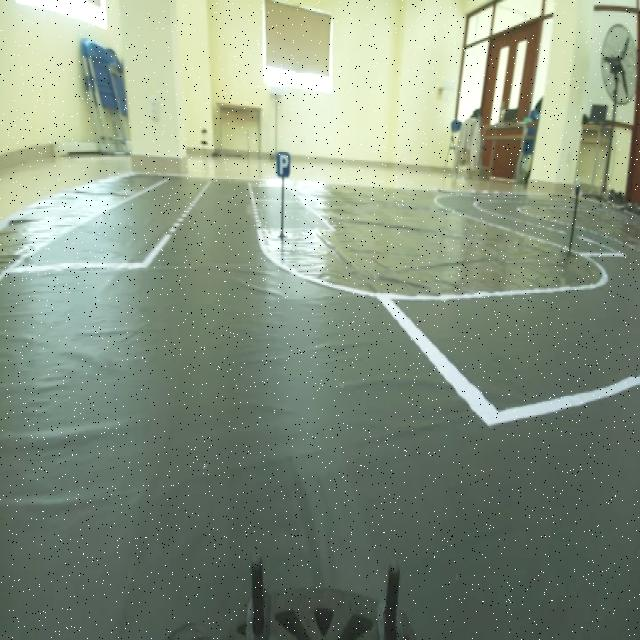parking: (273, 144, 292, 192)
